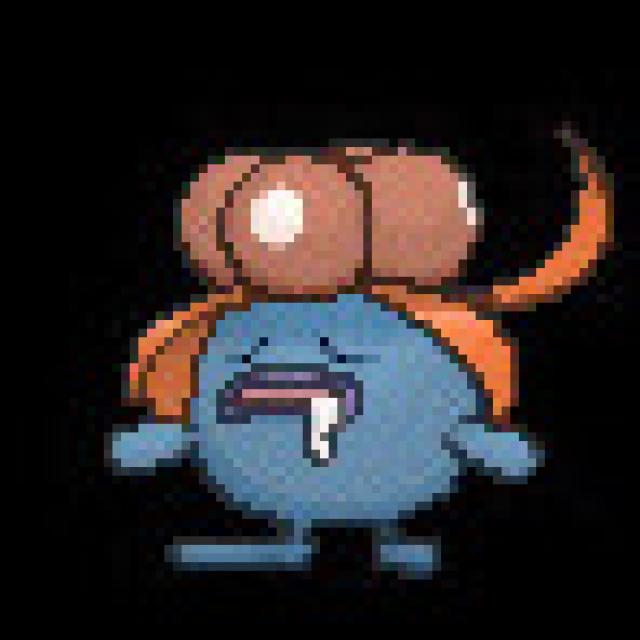Gloom: (110, 128, 616, 578)
